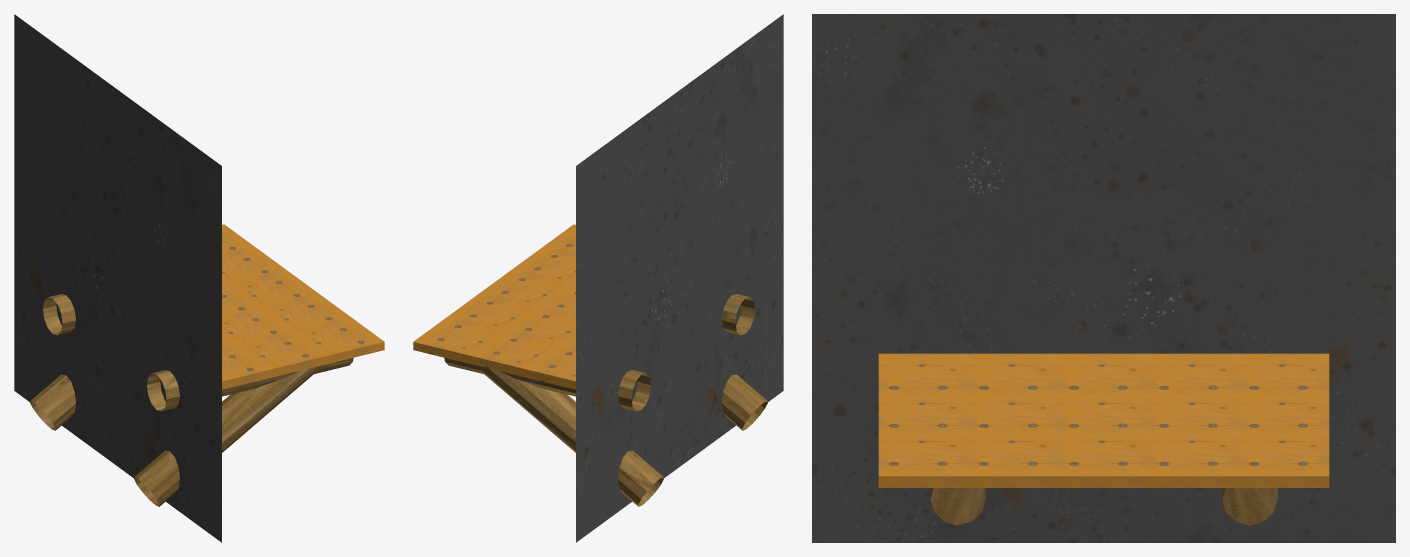
Rendered from Wall-Platform1.fbx.
3 renders of one model, left to right at view 1: azimuth 30°, elevation 25°; view 2: azimuth 150°, elevation 25°; view 3: azimuth 270°, elevation 25°, orthographic. The views are drawn at different scales.
Parts seen in each view (by area): view 1: Wall-Platform1; view 2: Wall-Platform1; view 3: Wall-Platform1.
Part boxes in pixels (left/top/right/bottom): Wall-Platform1: left=14, top=14, right=384, bottom=542; Wall-Platform1: left=413, top=14, right=783, bottom=542; Wall-Platform1: left=812, top=14, right=1395, bottom=542.
Bounding box in the file's own units: 121 × 200 × 200.
